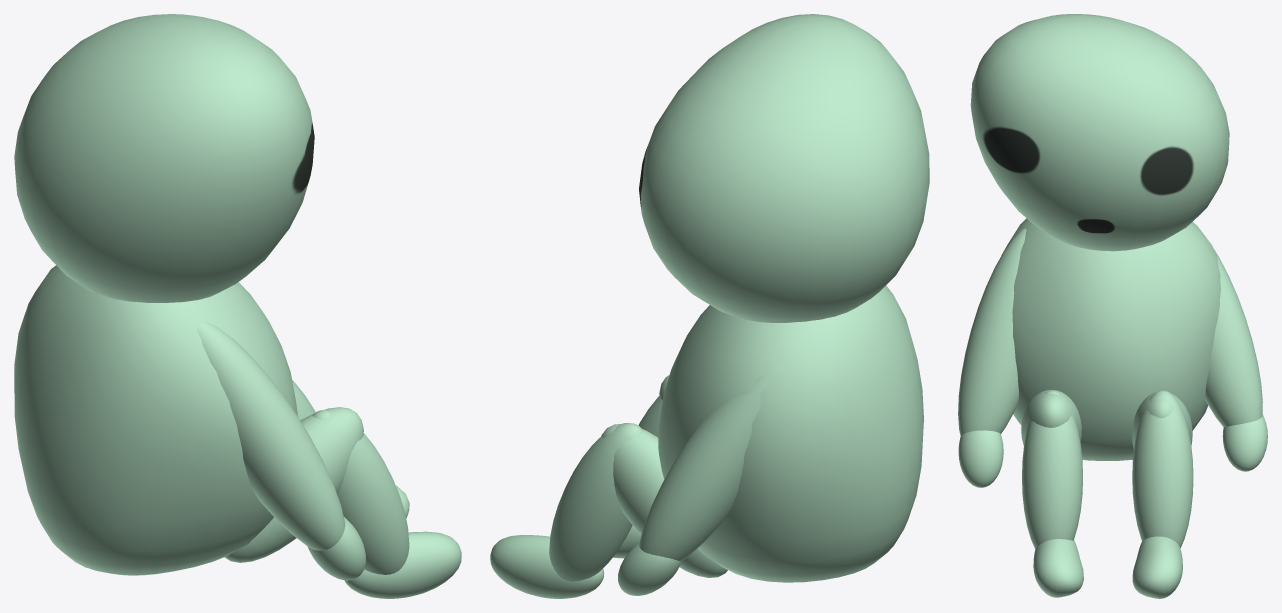
The model's file is new_kodama_03.glb.
3 renders of one model, left to right at view 1: azimuth 30°, elevation 25°; view 2: azimuth 150°, elevation 25°; view 3: azimuth 270°, elevation 25°, orthographic. The views are drawn at different scales.
Parts seen in each view (by area): view 1: Sphere.013, Sphere.014, Sphere.019, Sphere.015, Sphere.051, Sphere.017, Sphere.062; view 2: Sphere.013, Sphere.014, Sphere.020, Sphere.018, Sphere.016, Sphere.052, Sphere.063; view 3: Sphere.013, Sphere.014, Sphere.019, Sphere.018, Sphere.015, Sphere.020, Sphere.052, Sphere.051, Sphere.062, Sphere.063, Sphere.017, Sphere.016.
Part boxes in pixels (x1,y1,x2,y2): Sphere.013: (14, 14, 314, 302); Sphere.014: (14, 265, 297, 575); Sphere.019: (196, 321, 345, 550); Sphere.015: (312, 410, 409, 574); Sphere.051: (344, 531, 461, 598); Sphere.017: (224, 407, 363, 562); Sphere.062: (307, 517, 365, 580); Sphere.013: (639, 14, 929, 322); Sphere.014: (658, 285, 923, 582); Sphere.020: (639, 365, 783, 561); Sphere.018: (549, 423, 642, 581); Sphere.016: (601, 424, 727, 577); Sphere.052: (490, 535, 604, 598); Sphere.063: (618, 543, 681, 595); Sphere.013: (970, 14, 1229, 251); Sphere.014: (1002, 218, 1220, 460); Sphere.019: (958, 228, 1026, 435); Sphere.018: (1132, 390, 1193, 548); Sphere.015: (1022, 390, 1082, 549); Sphere.020: (1204, 235, 1262, 427); Sphere.052: (1132, 536, 1182, 598); Sphere.051: (1033, 539, 1083, 597); Sphere.062: (958, 430, 1003, 487); Sphere.063: (1222, 414, 1267, 471); Sphere.017: (1021, 389, 1081, 445); Sphere.016: (1132, 392, 1192, 449).
Size of the model in its own units: 3.83 by 5.48 by 3.18.
2 materials, 2 textured.
